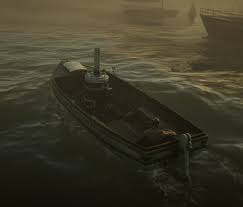boat: (50, 47, 209, 164)
